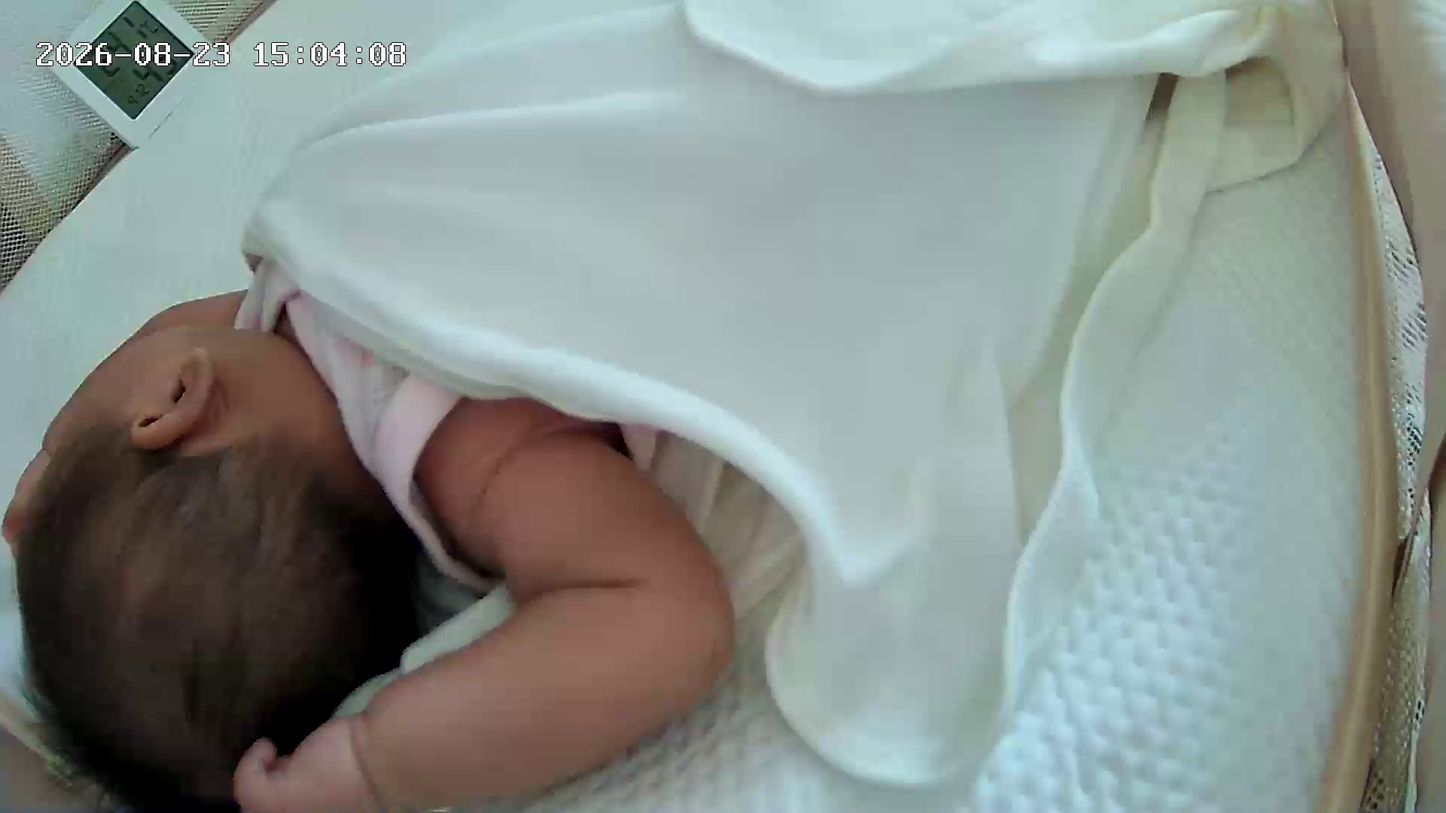baby: (0, 0, 860, 810)
baby_face: (279, 399, 803, 807), (0, 314, 424, 813)
